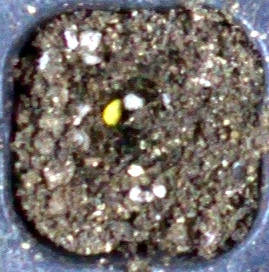chilli seed: (102, 98, 120, 125)
